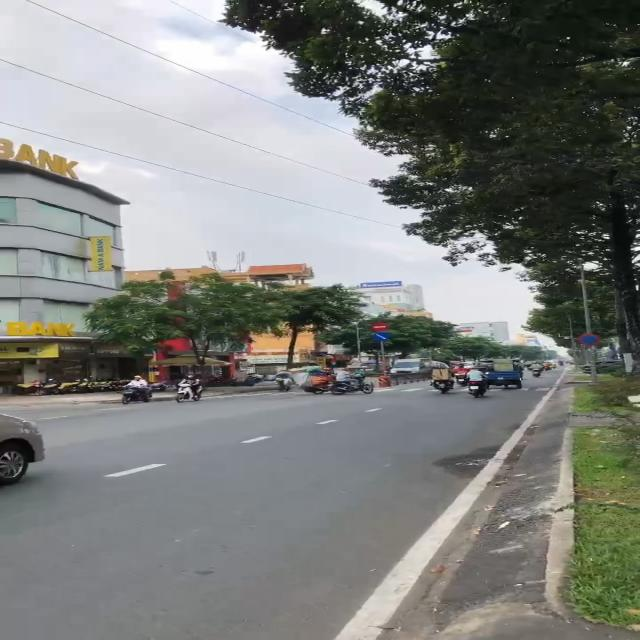Bien bao cam di nguoc chieu: (369, 321, 390, 331)
Bien bao huong phai di vong chuong ngai vat: (371, 330, 390, 342)
